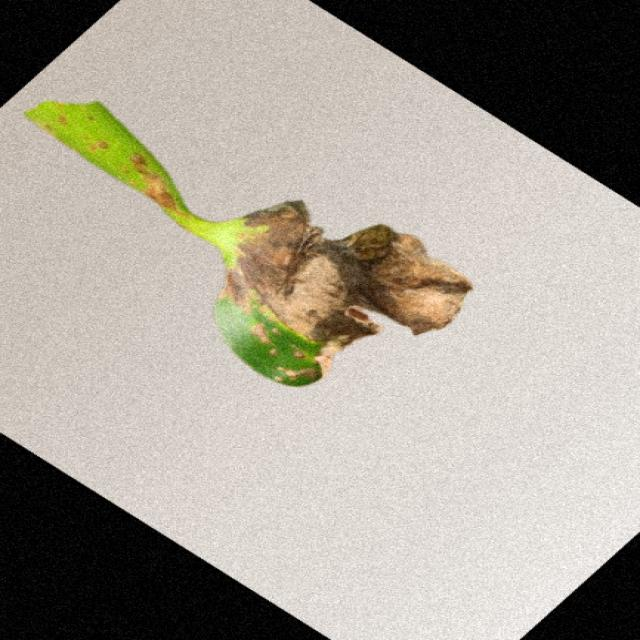daun berpenyakit karat: (25, 102, 471, 386)
